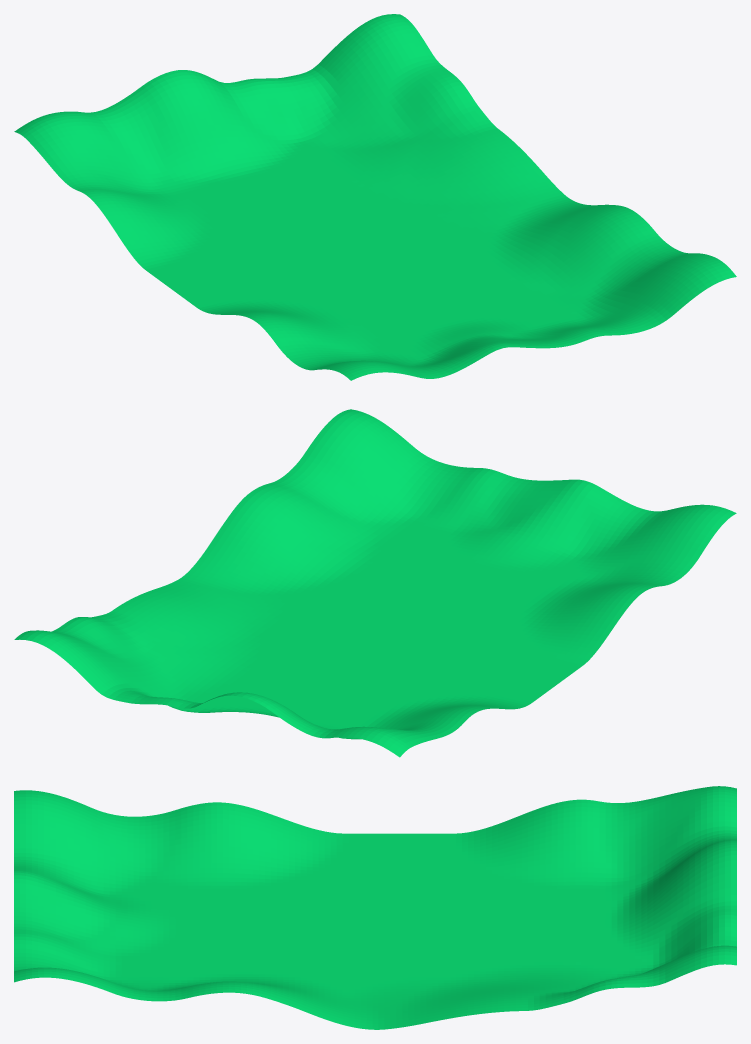
File: terrain.glb
3 renders of one model, top to bottom at view 1: azimuth 30°, elevation 25°; view 2: azimuth 150°, elevation 25°; view 3: azimuth 270°, elevation 25°, orthographic. The views are drawn at different scales.
Visible parts, largest first — view 1: Terrain; view 2: Terrain; view 3: Terrain.
Part boxes in pixels (box(x1,y1,x2,y2)): Terrain: box(14, 14, 736, 380); Terrain: box(14, 409, 736, 757); Terrain: box(14, 786, 736, 1029).
Bounding box in the file's own units: 520 × 89.82 × 787.
